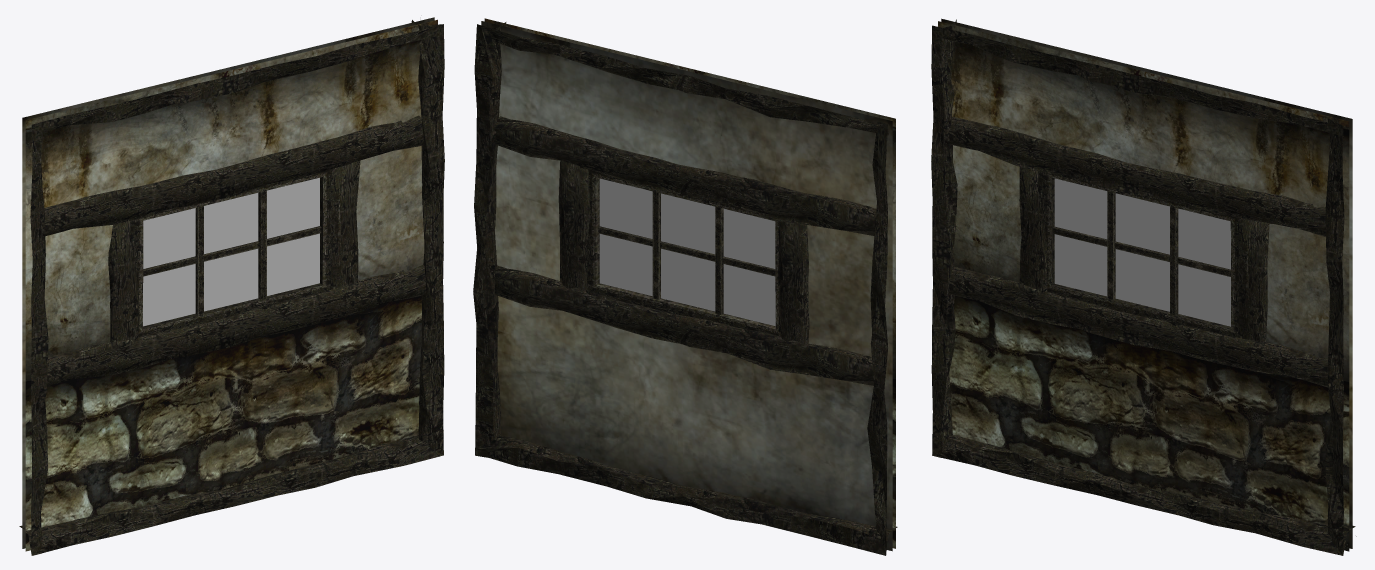
File: window02a_blue.DAE
The picture shows the model from 3 angles, left to right: view 1: azimuth 30°, elevation 25°; view 2: azimuth 150°, elevation 25°; view 3: azimuth 330°, elevation 25°; orthographic projection.
Visible parts, largest first — view 1: Box015, Box013, Plane013, Box014; view 2: Box015, Box013, Plane013, Box014; view 3: Box015, Box013, Plane013, Box014.
Boxes of the visible parts, x1,y1,x2,y2 form: Box015: (22, 17, 437, 551); Box013: (19, 20, 444, 555); Plane013: (143, 177, 319, 326); Box014: (130, 169, 340, 336); Box015: (481, 18, 895, 551); Box013: (473, 22, 897, 555); Plane013: (599, 178, 775, 326); Box014: (580, 166, 778, 335); Box015: (938, 18, 1352, 551); Box013: (931, 19, 1356, 555); Plane013: (1054, 178, 1230, 326); Box014: (1038, 171, 1248, 337).
Bounding box in the file's own units: 4 × 0.3278 × 4.
